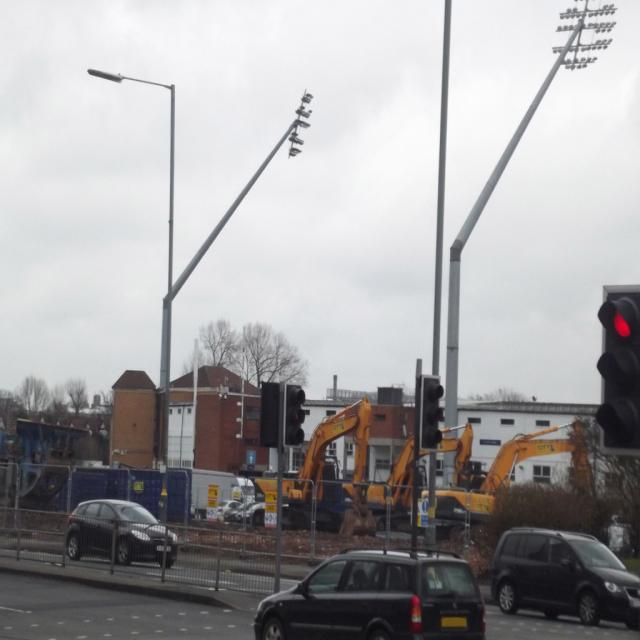off traffic light: (421, 376, 446, 452), (285, 384, 306, 445)
traffic light: (593, 292, 640, 451)
